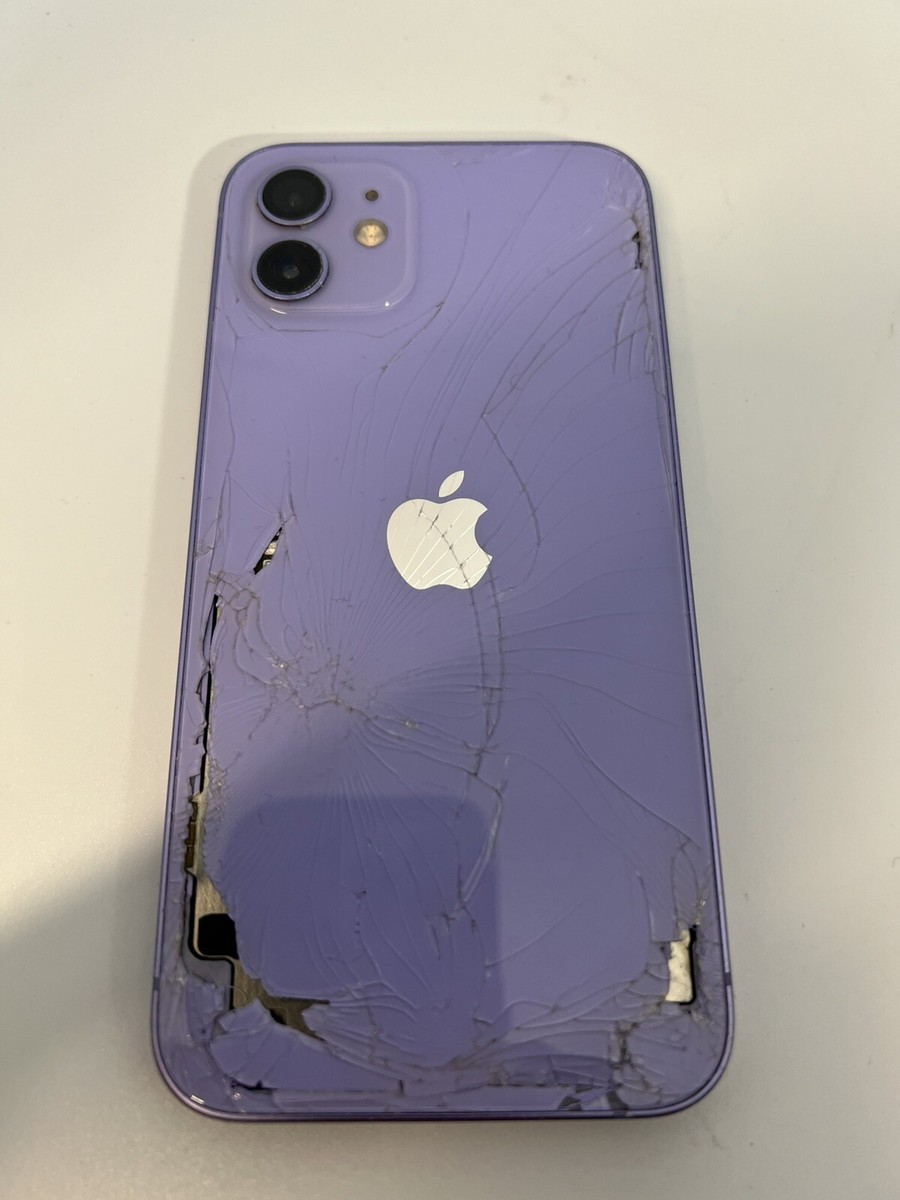crack_phone: (128, 88, 790, 1159)
